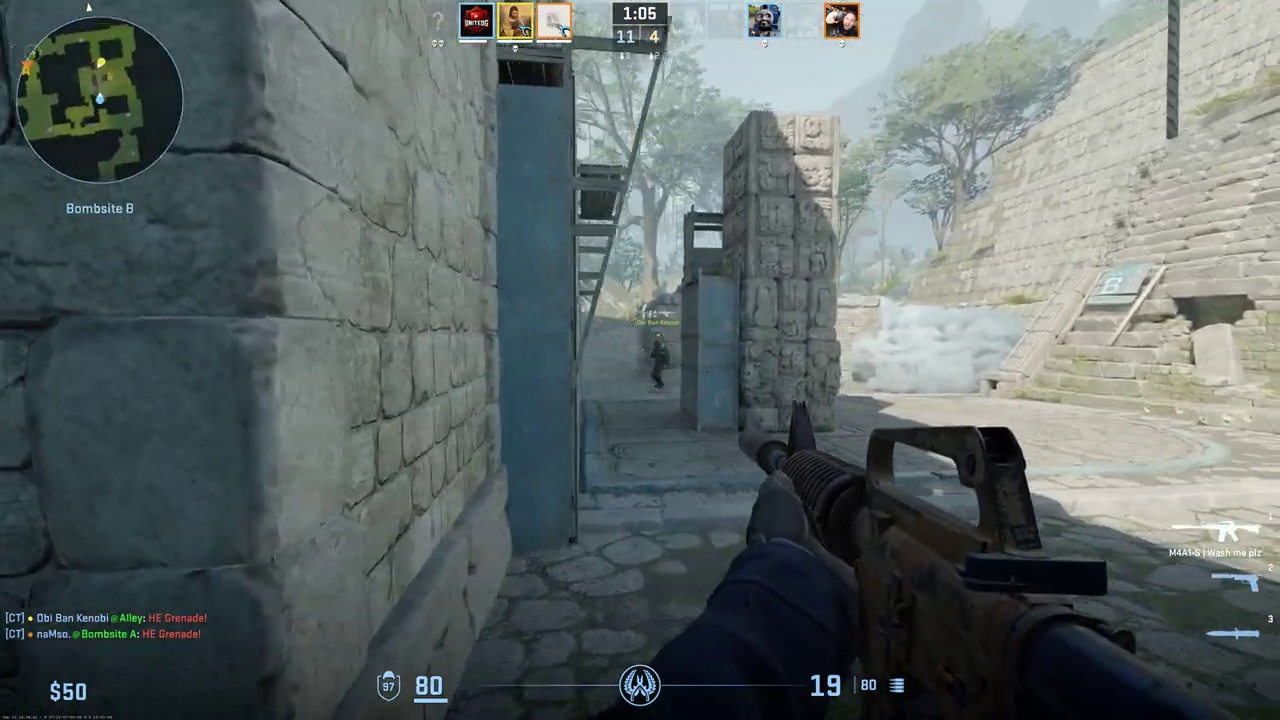CT: (650, 340, 668, 388)
